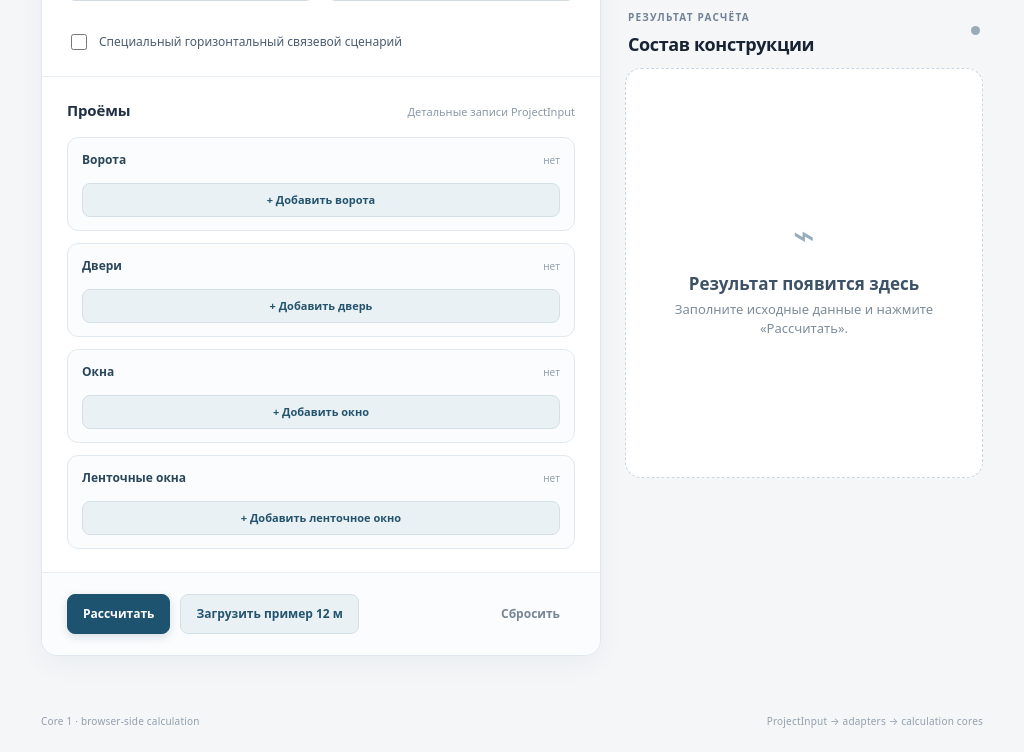
Scenario: Sprint M calculator UI › renders the legacy REF diagnostic contract
(page scrolled)
Step 1. Click the button "Рассчитать" → (119,614), box [67,594,170,634]
(page scrolled)
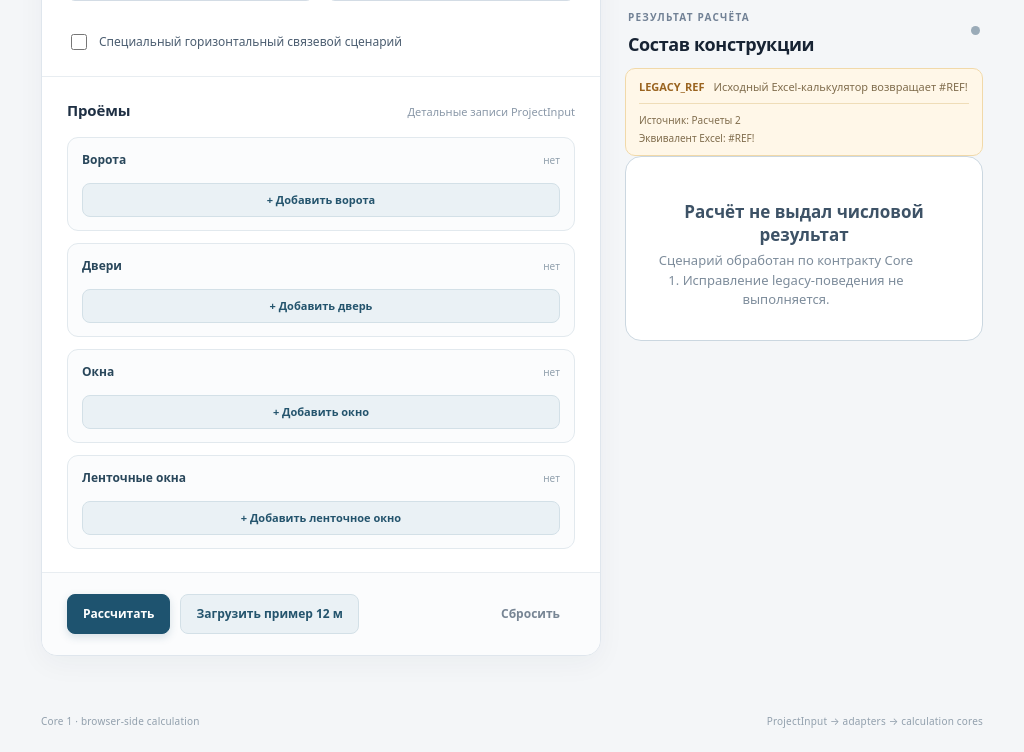
Now the text "LEGACY_REF" is shown, box [639,79,705,94]
Now the text "Эквивалент Excel: #REF!" is shown, box [639,131,754,145]
